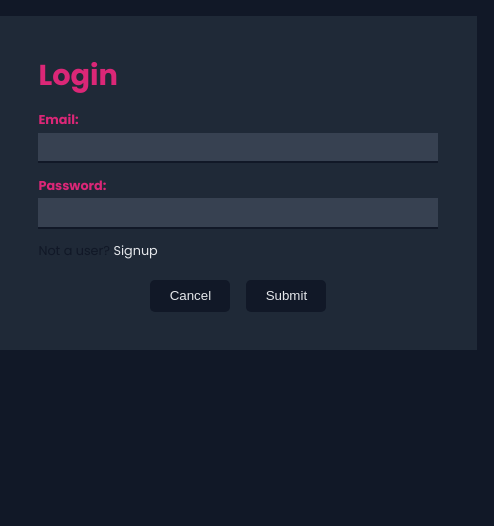
LoginForm › should throw an error if passwords do not match
The image size is (494, 526).
Click the text "Signup" at (136, 251), box 113,242 -> 158,260
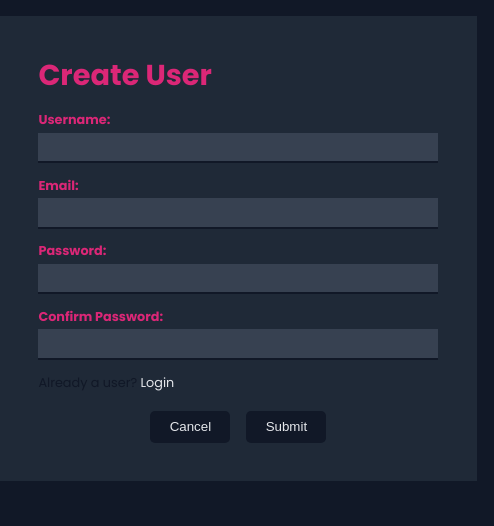
Type "tester" into the field labelled "Username:" at (238, 148), box 38,133 -> 438,163
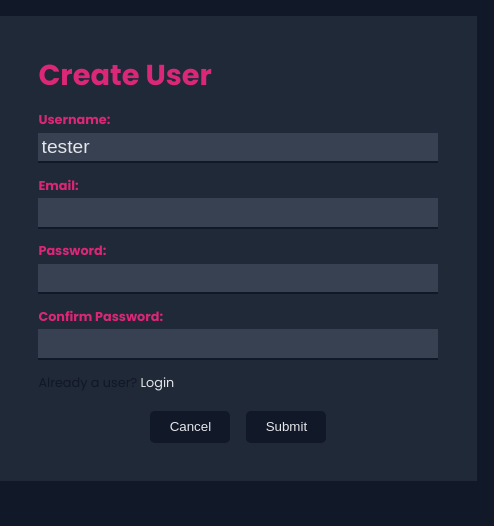
Type "tester@test.com" into the field labelled "Email:" at (238, 214), box 38,198 -> 438,229
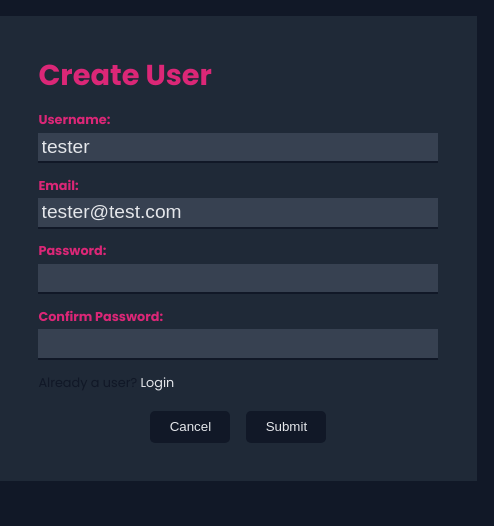
Type "Tester809!!!" into the password field labelled "Password:" at (238, 279), box 38,264 -> 438,294
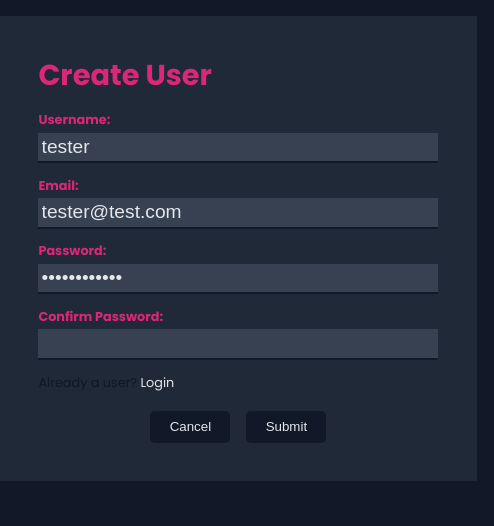
Type "Tester809!" into the password field labelled "Confirm Password:" at (238, 345), box 38,329 -> 438,360
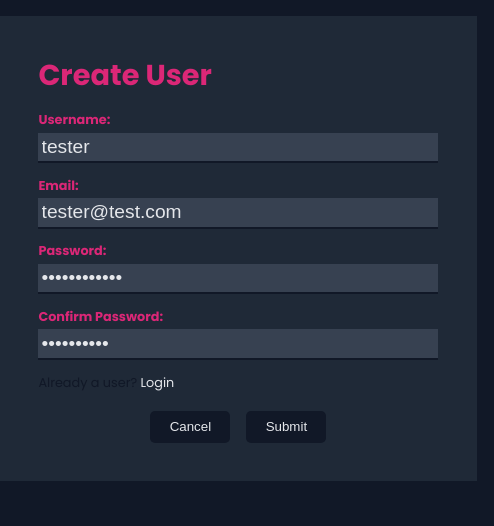
Click the button "Submit" at (286, 427), box 246,411 -> 326,443
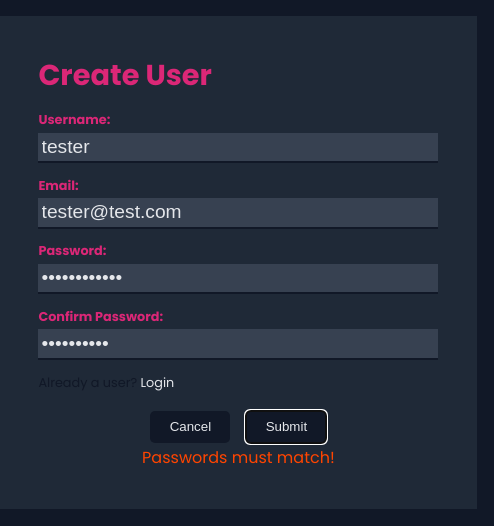
Result: the text "Passwords must match!" is shown at 142,446 -> 335,470
